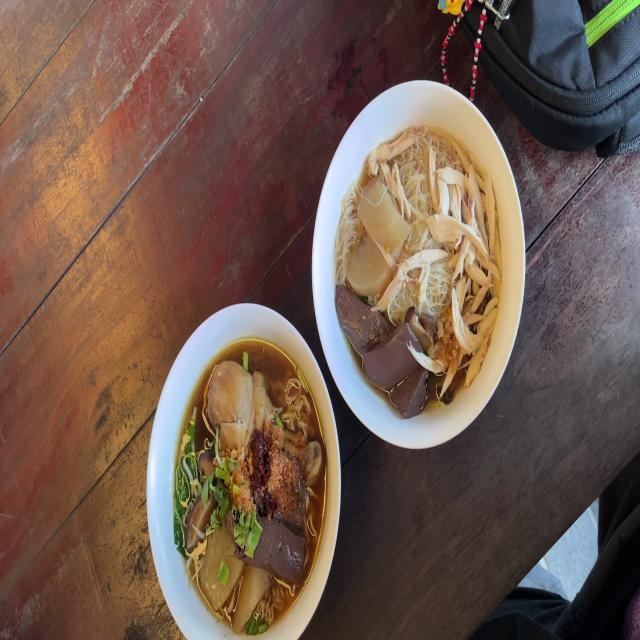boiled_chicken_blood_jelly: (338, 288, 388, 361), (370, 326, 420, 382), (259, 520, 301, 578), (399, 370, 425, 408)
chicken_drumstick: (207, 361, 322, 478)
chicken_shredded: (434, 135, 501, 381), (364, 124, 420, 173)
daikon_radish: (358, 177, 407, 264), (202, 532, 241, 597), (348, 233, 390, 290), (239, 568, 269, 618)
noodle: (345, 132, 495, 426), (167, 362, 328, 635)
